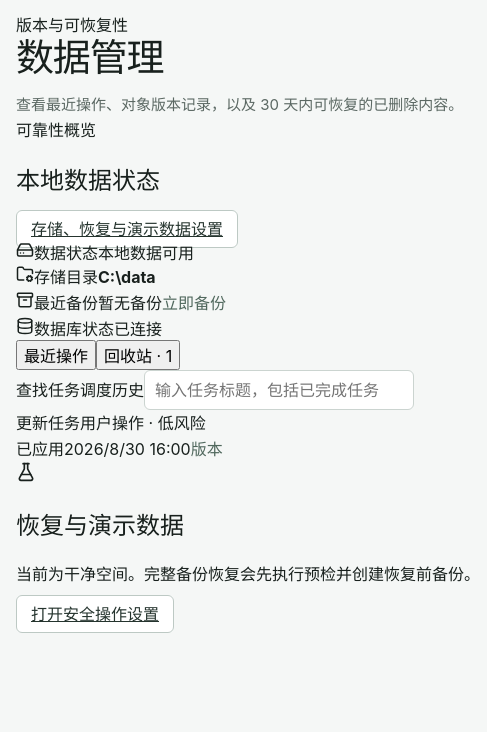
Test: DataManagementPage history closure › keeps recent operations and recycle-bin flows intact
The width and height of the screenshot is (487, 732).
Expected: the text "更新任务" is shown, [16,413,80,433]
Expected: the button "版本" is shown, [191,434,223,462]
Click the button "回收站 · 1".
click(138, 355)  # box [96,340,180,370]
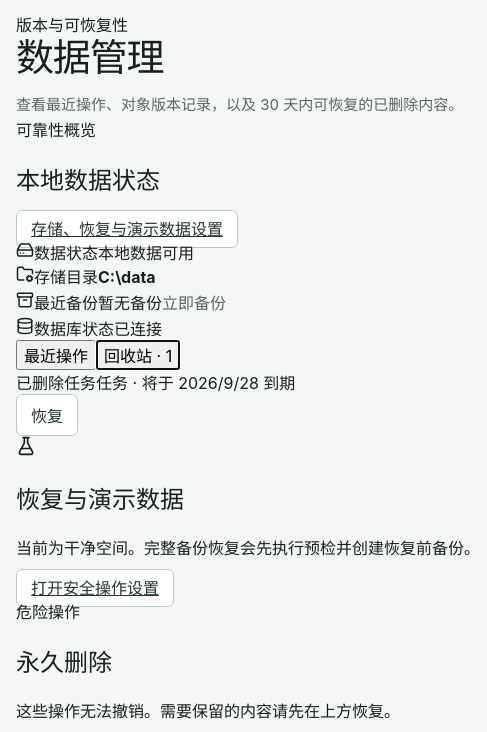
Expected: the text "已删除任务" is shown, [16,373,96,393]
Expected: the button "恢复" is shown, [16,394,78,436]
